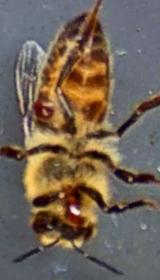varroa_mite: (27, 78, 62, 128)
